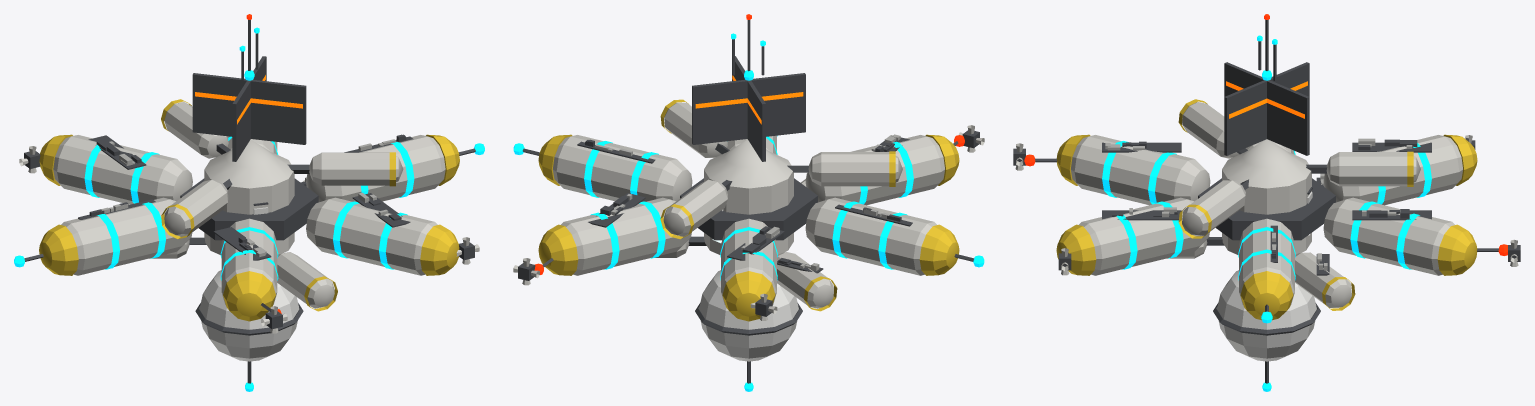
The model's file is fuel_cell_fab.glb.
3 views of the same model, side by side, from view 1: azimuth 30°, elevation 25°; view 2: azimuth 150°, elevation 25°; view 3: azimuth 270°, elevation 25° (orthographic).
Visible parts, largest first — view 1: fuel_cell_fab; view 2: fuel_cell_fab; view 3: fuel_cell_fab.
Boxes of the visible parts, left/top/right/bottom form: fuel_cell_fab: left=14, top=14, right=484, bottom=391; fuel_cell_fab: left=513, top=14, right=984, bottom=391; fuel_cell_fab: left=1013, top=14, right=1520, bottom=391.
Bounding box in the file's own units: 1.93 × 1.48 × 1.8.
